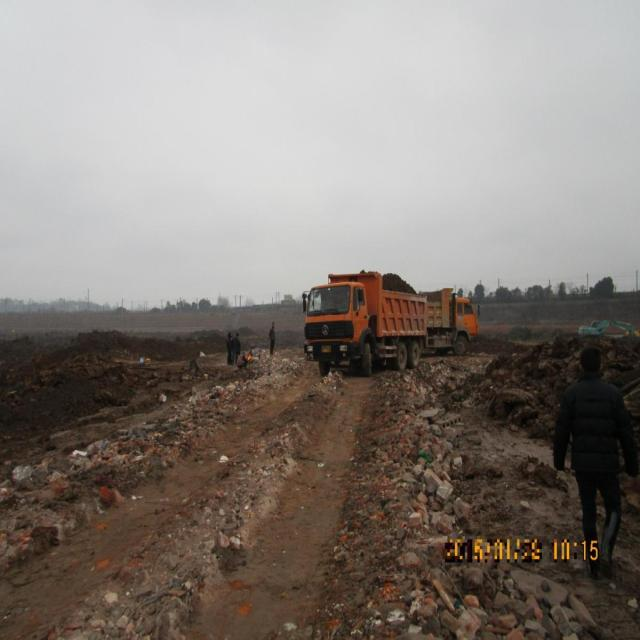truck: (294, 263, 435, 386), (413, 285, 487, 361)
